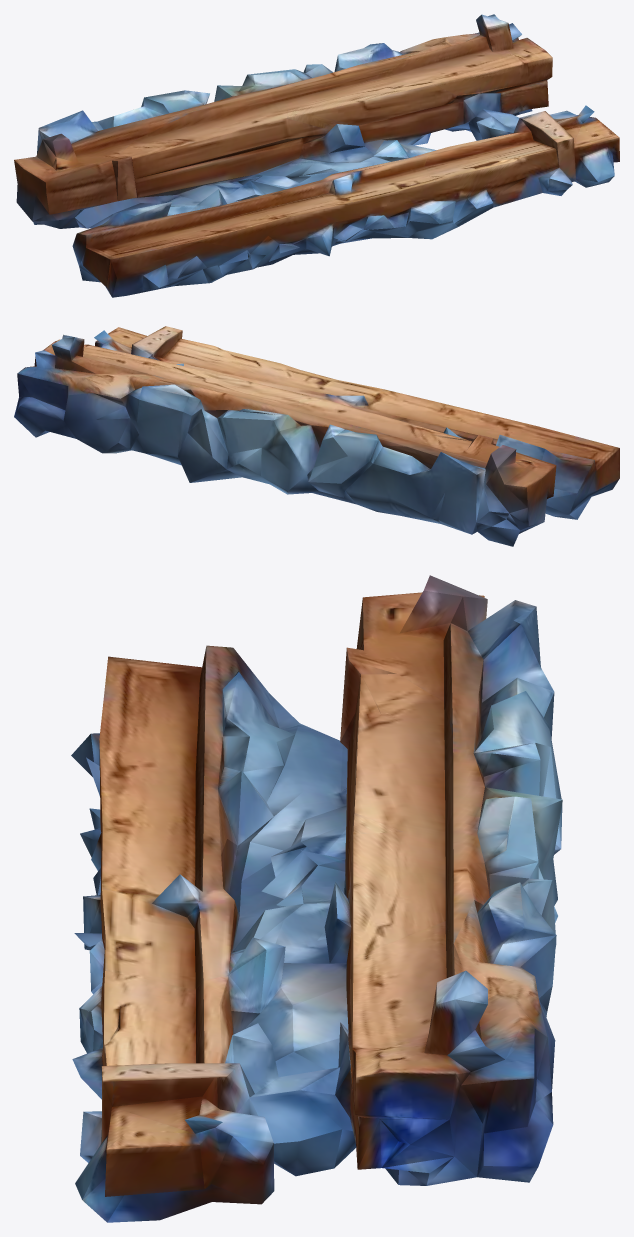
Rendered from m2MineTrack.glb.
The picture shows the model from 3 angles, top to bottom: view 1: azimuth 30°, elevation 25°; view 2: azimuth 150°, elevation 25°; view 3: azimuth 270°, elevation 25°; orthographic projection. The views are drawn at different scales.
Parts seen in each view (by area): view 1: model; view 2: model; view 3: model.
Part boxes in pixels (bbox=[...]): model: bbox=[14, 14, 619, 297]; model: bbox=[14, 326, 619, 546]; model: bbox=[71, 575, 562, 1222].
Bounding box in the file's own units: 1.9 × 0.4562 × 0.7982.
Materials: 1 (1 with a texture image).
